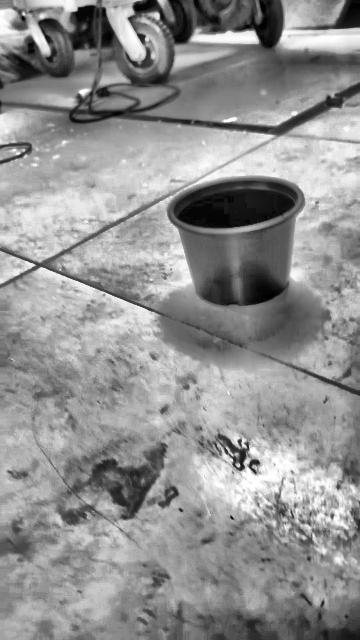pot: (168, 176, 304, 305)
